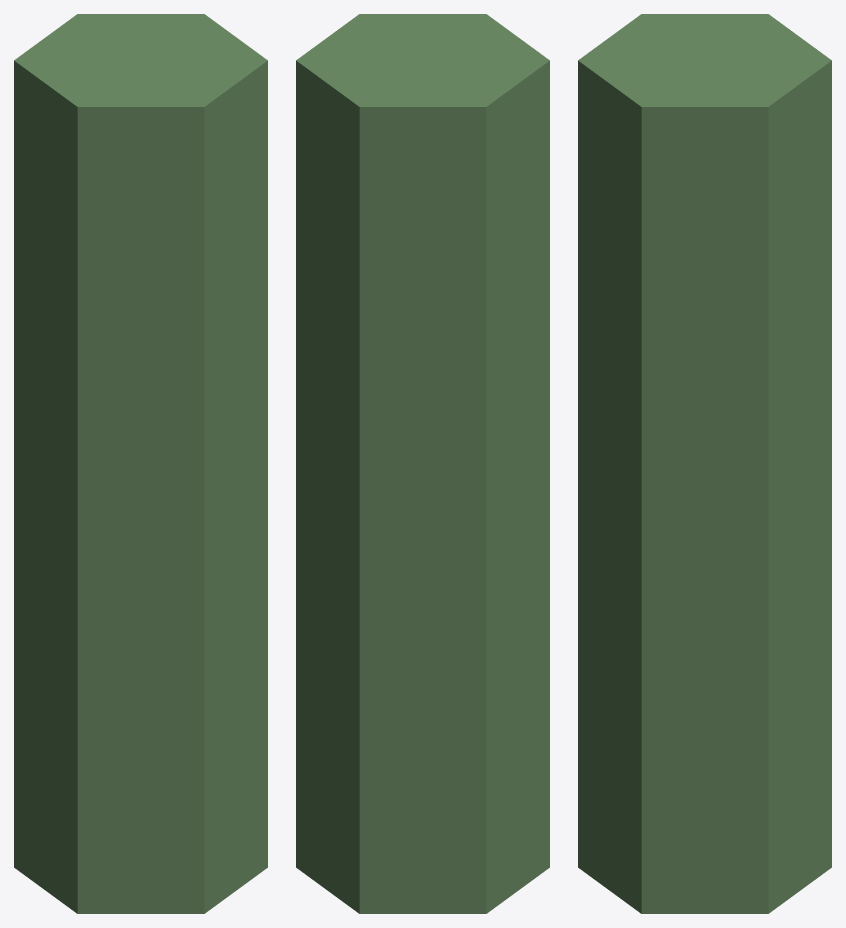
File: tracking_object_1.dae
3 views of the same model, side by side, from view 1: azimuth 30°, elevation 25°; view 2: azimuth 150°, elevation 25°; view 3: azimuth 270°, elevation 25° (orthographic).
Parts seen in each view (by area): view 1: Cylinder; view 2: Cylinder; view 3: Cylinder.
Boxes of the visible parts, box(x1,y1,x2,y2) form: Cylinder: box(14, 14, 267, 913); Cylinder: box(296, 14, 549, 913); Cylinder: box(578, 14, 831, 913).
Bounding box in the file's own units: 0.6175 × 0.7131 × 2.5.
